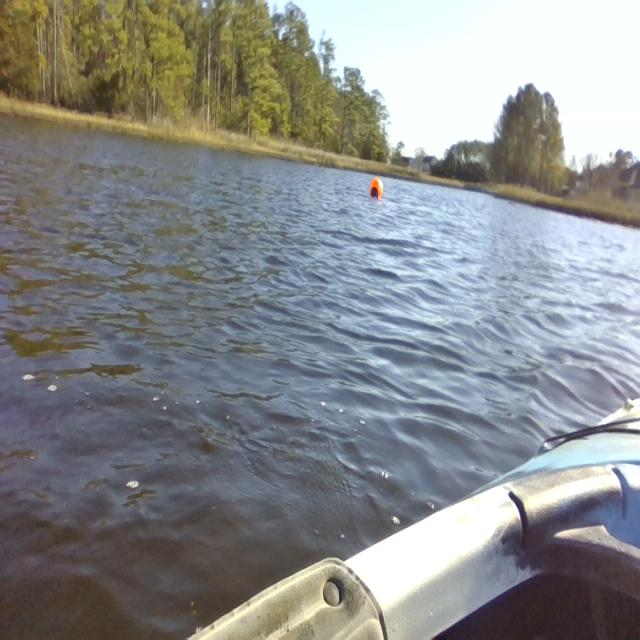Buoy: (362, 173, 388, 204)
